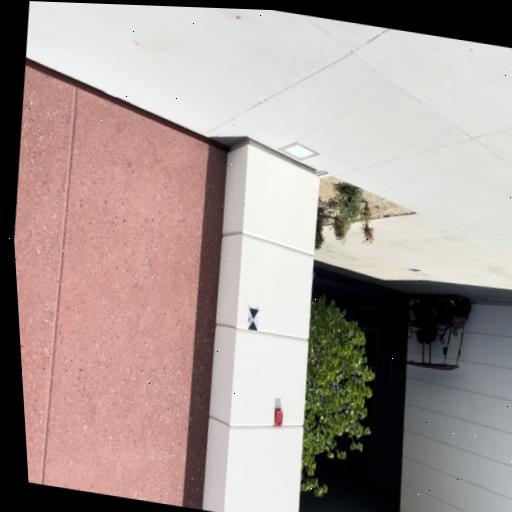target9: (246, 307, 261, 331)
